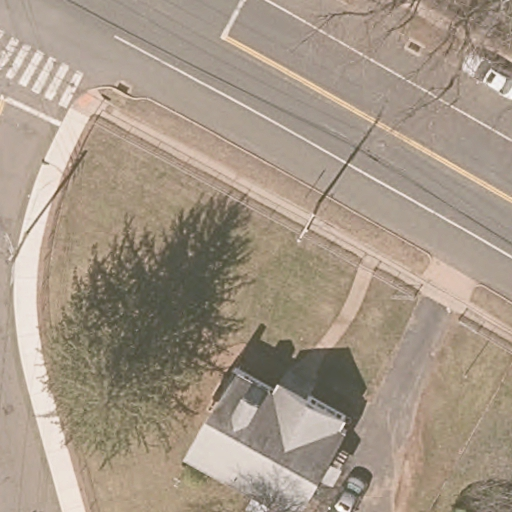DT: (1, 229, 29, 286), (294, 205, 319, 246)
